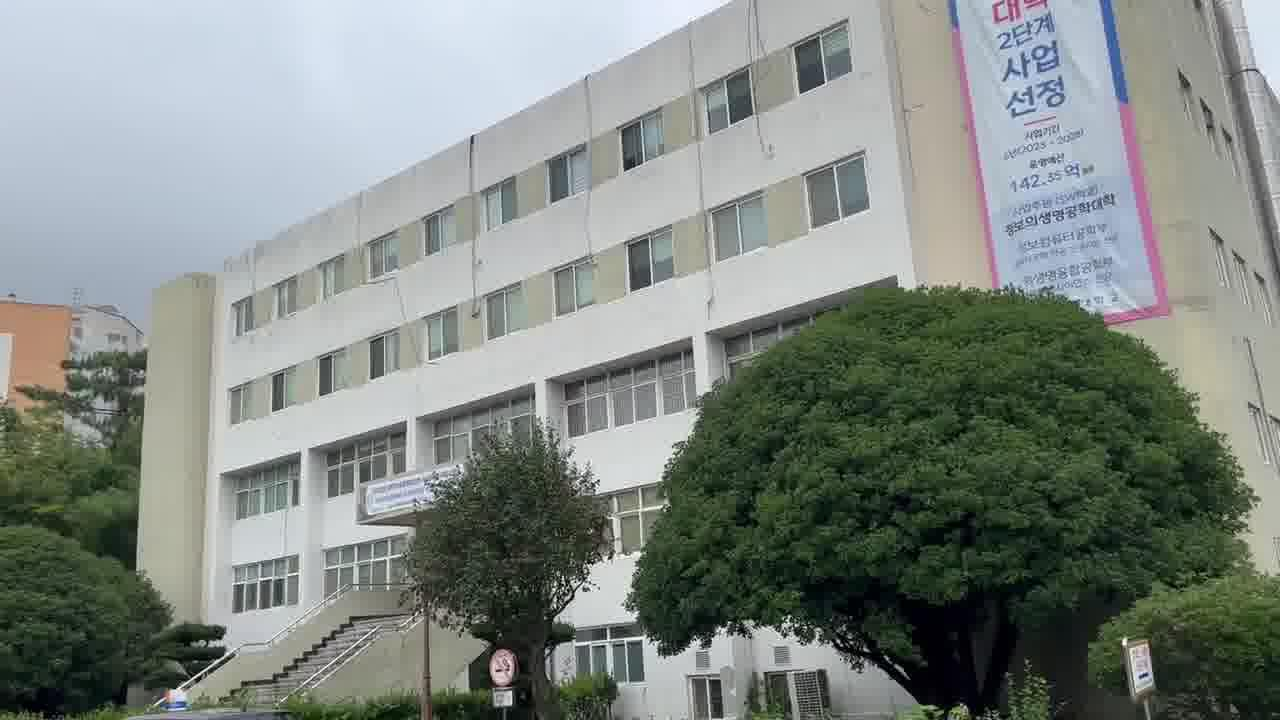building: (133, 71, 697, 471)
